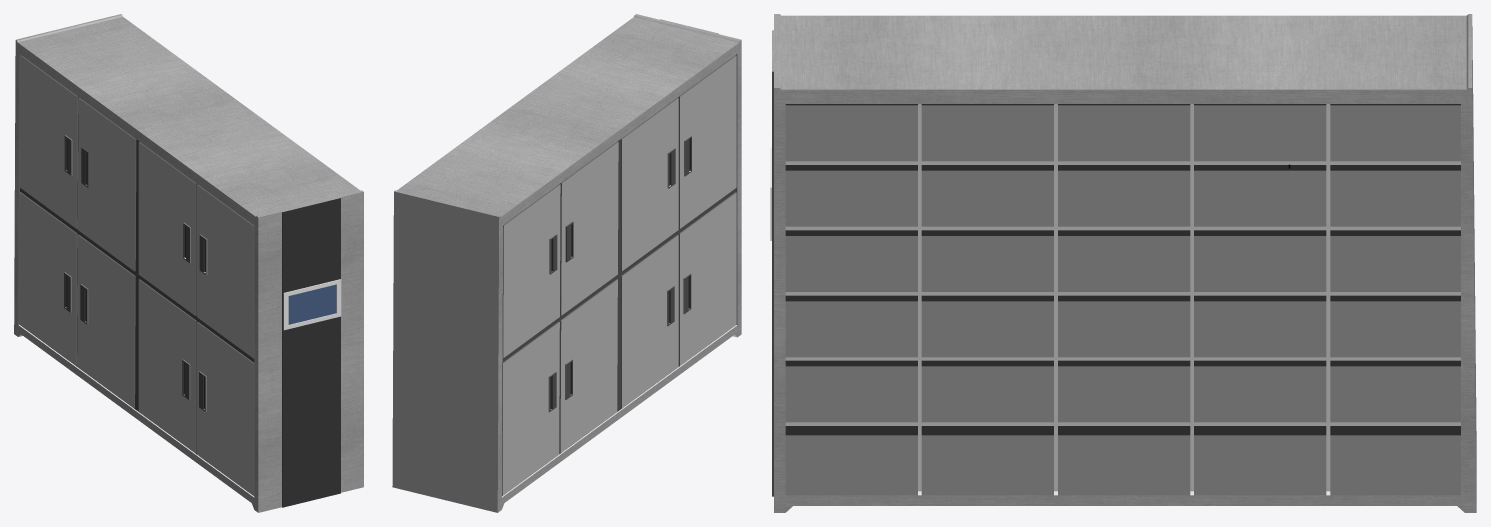
The model's file is mjjleft6-5-fit.obj.
The picture shows the model from 3 angles, left to right: view 1: azimuth 30°, elevation 25°; view 2: azimuth 150°, elevation 25°; view 3: azimuth 270°, elevation 25°; orthographic projection. The views are drawn at different scales.
Visible parts, largest first — view 1: mjj, Mesh02; view 2: mjj; view 3: mjj.
Boxes of the visible parts, <box> form: mjj: <box>14,14,363,512</box>; Mesh02: <box>283,279,341,330</box>; mjj: <box>392,14,741,512</box>; mjj: <box>772,14,1476,512</box>.
Size of the model in its own units: 35.84 by 94.93 by 143.
